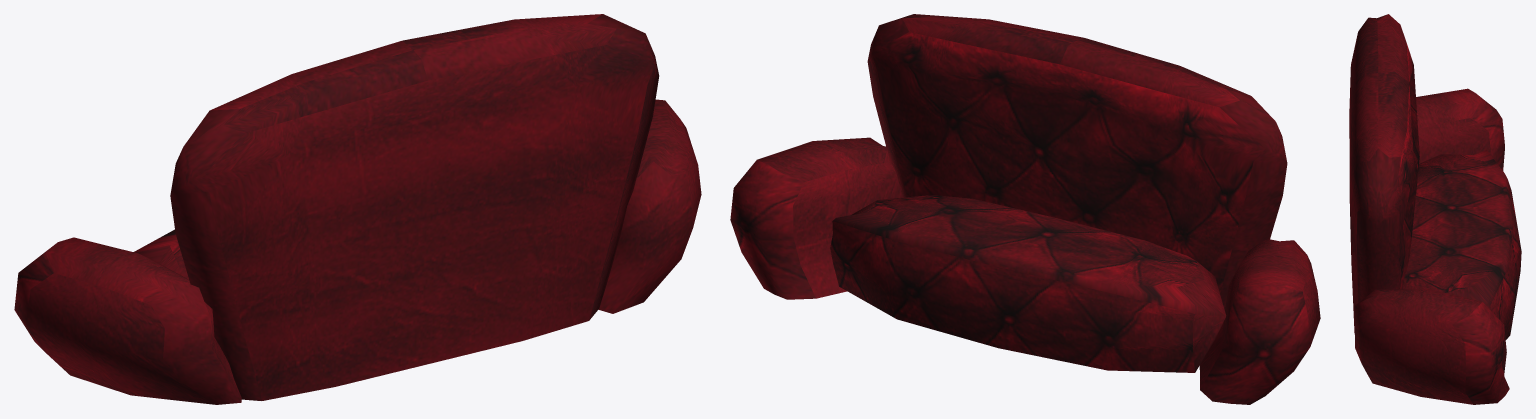
File: english_canap_red.FBX
3 renders of one model, left to right at view 1: azimuth 30°, elevation 25°; view 2: azimuth 150°, elevation 25°; view 3: azimuth 270°, elevation 25°, orthographic. The views are drawn at different scales.
Parts seen in each view (by area): view 1: canapel_ang12; view 2: canapel_ang12; view 3: canapel_ang12.
Part boxes in pixels (box(x1,y1,x2,y2)): canapel_ang12: box(14, 14, 701, 404); canapel_ang12: box(730, 14, 1320, 404); canapel_ang12: box(1349, 14, 1521, 404).
Size of the model in its own units: 2.68 by 1.18 by 0.8043.
